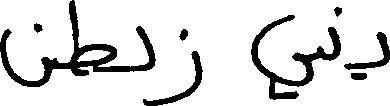ز: (170, 27, 200, 103)
ط: (68, 0, 115, 76)
ل: (135, 24, 156, 73)
ن: (0, 21, 51, 87), (325, 5, 342, 62)
ي: (249, 12, 314, 100), (351, 29, 388, 82)
